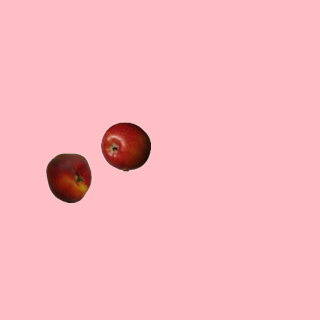Apple Braeburn: (100, 121, 150, 171)
Nectarine Flat: (43, 152, 93, 202)
